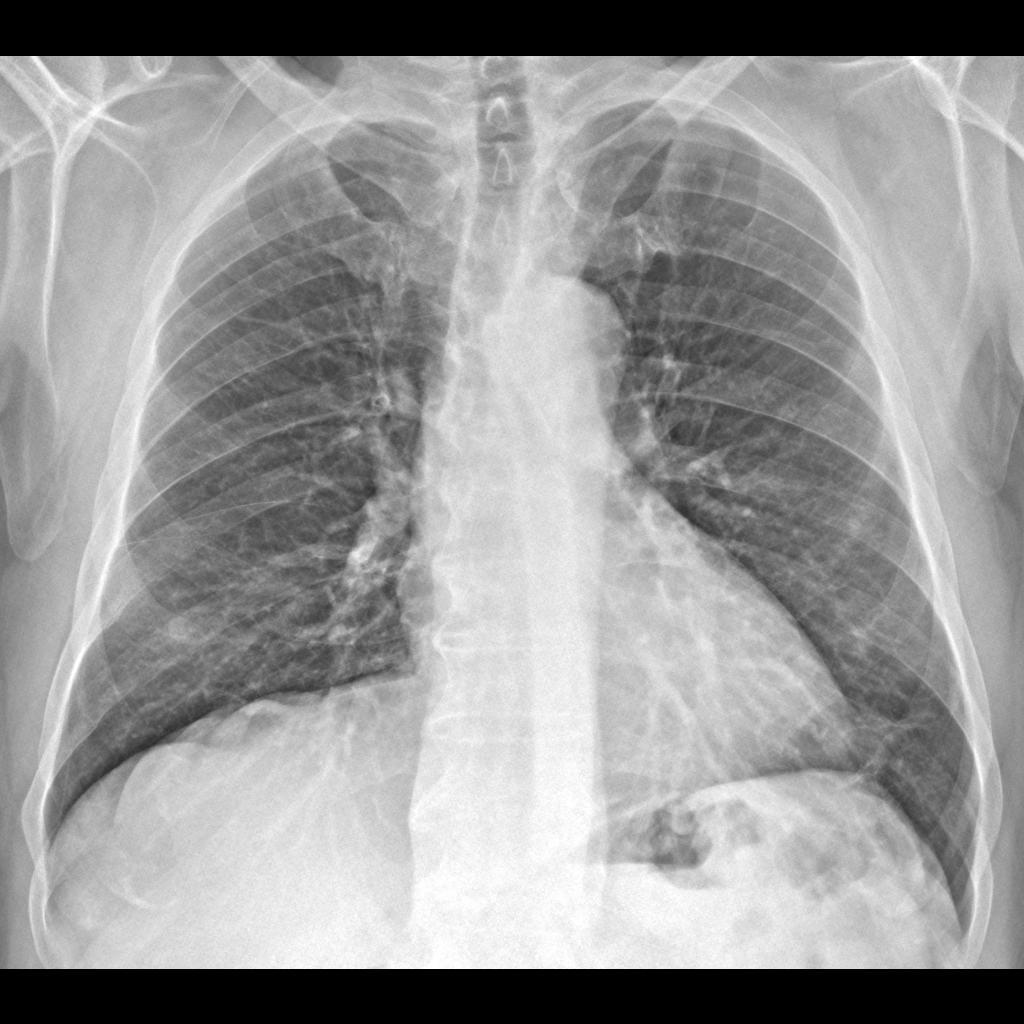Nodule: (158, 610, 205, 653)
